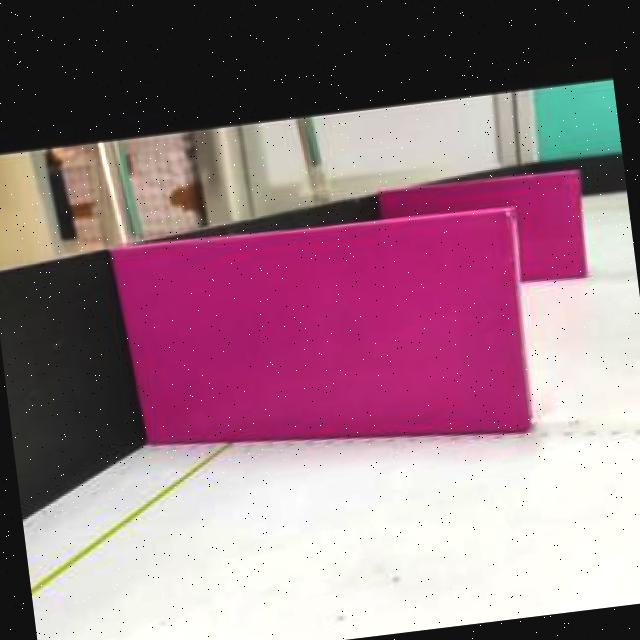xparking: (127, 203, 538, 478), (520, 170, 590, 284)
